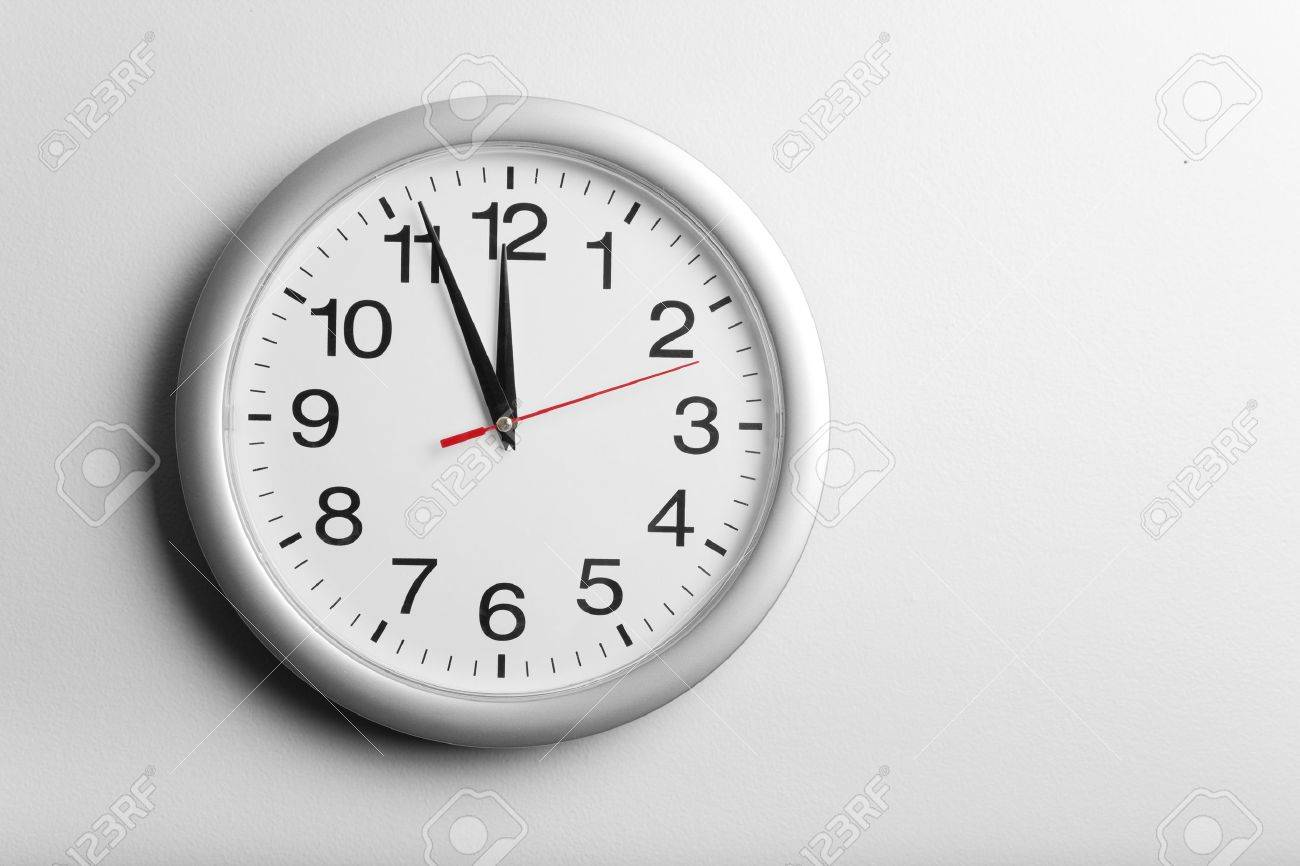clock: (225, 144, 780, 701)
